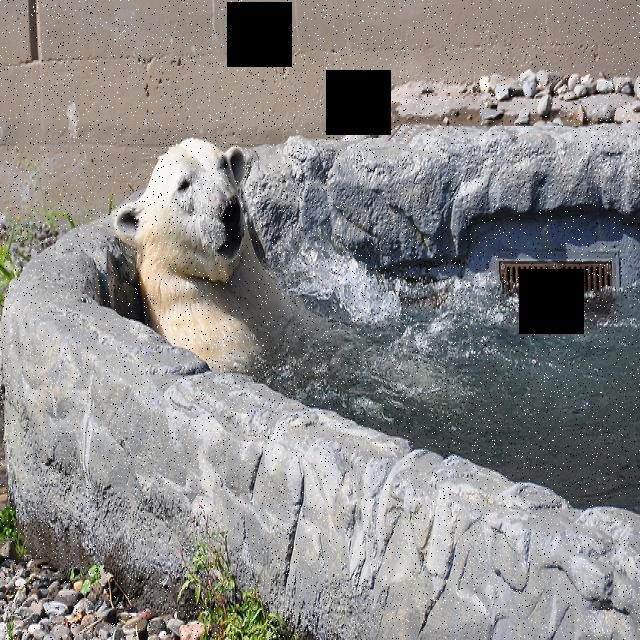Bear: (112, 128, 318, 386)
